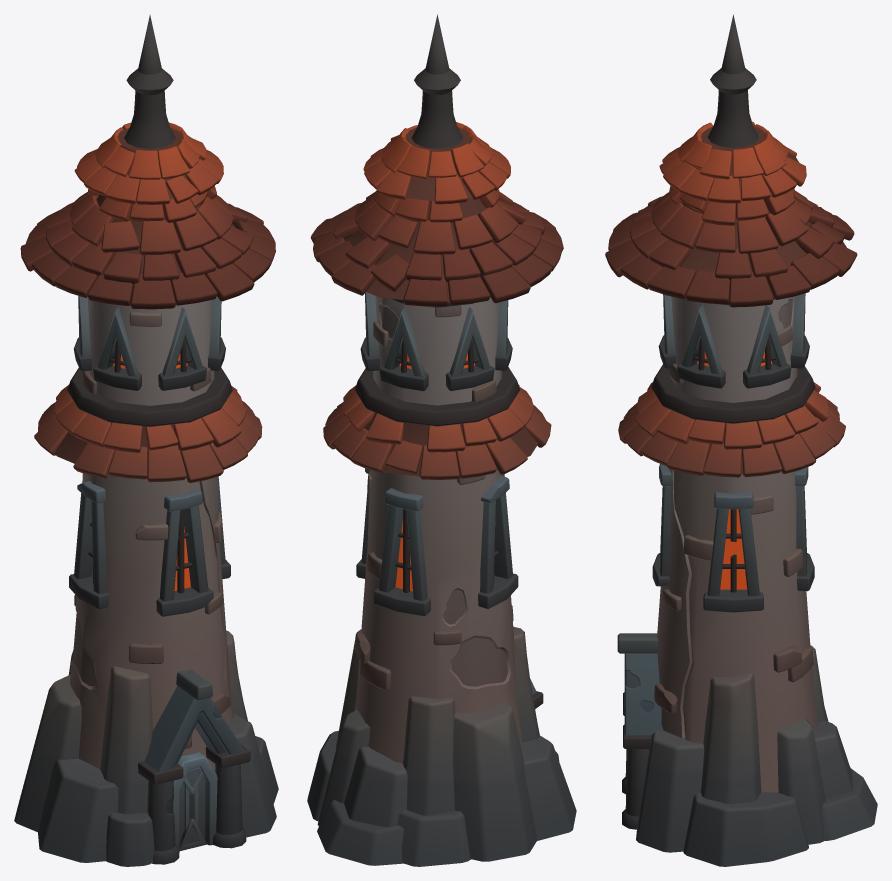
The model's file is inferno-tower-big-001.glb.
3 views of the same model, side by side, from view 1: azimuth 30°, elevation 25°; view 2: azimuth 150°, elevation 25°; view 3: azimuth 270°, elevation 25° (orthographic).
Visible parts, largest first — view 1: TowerBig_001; view 2: TowerBig_001; view 3: TowerBig_001.
Part boxes in pixels (x1,y1,x2,y2): TowerBig_001: [14, 14, 278, 866]; TowerBig_001: [307, 14, 576, 866]; TowerBig_001: [605, 14, 877, 866].
Size of the model in its own units: 15.01 by 46.98 by 14.62.
Materials: 2 (2 with a texture image).
